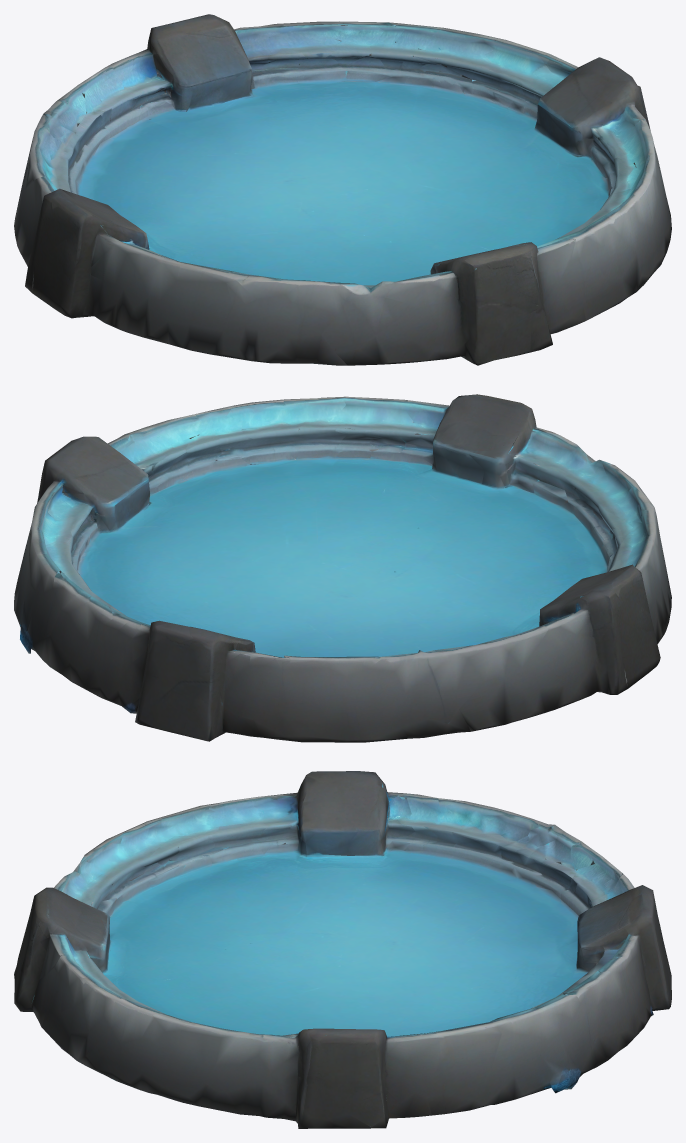
Rendered from mana_pool_0810063423_texture.glb.
3 views of the same model, one above another, from view 1: azimuth 30°, elevation 25°; view 2: azimuth 150°, elevation 25°; view 3: azimuth 270°, elevation 25° (orthographic). The views are drawn at different scales.
Visible parts, largest first — view 1: mana_pool_0810063423_texture; view 2: mana_pool_0810063423_texture; view 3: mana_pool_0810063423_texture.
Part boxes in pixels (x1=…): mana_pool_0810063423_texture: x1=14, y1=14, x2=671, y2=365; mana_pool_0810063423_texture: x1=14, y1=394, x2=671, y2=742; mana_pool_0810063423_texture: x1=14, y1=771, x2=671, y2=1128.
Bounding box in the file's own units: 1.99 × 0.3757 × 2.
1 material, 1 textured.
